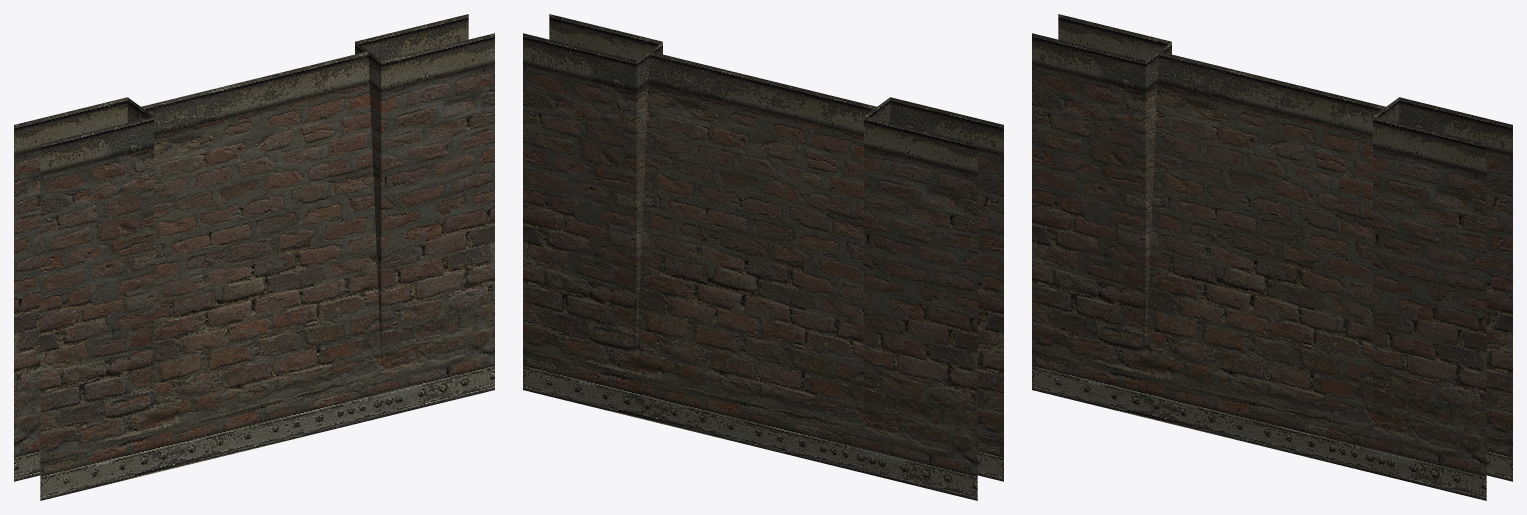
File: wall_hr_1_t_1.glb
3 views of the same model, side by side, from view 1: azimuth 30°, elevation 25°; view 2: azimuth 150°, elevation 25°; view 3: azimuth 330°, elevation 25° (orthographic).
Parts seen in each view (by area): view 1: wall_hr_1_t_1; view 2: wall_hr_1_t_1; view 3: wall_hr_1_t_1.
Part boxes in pixels (bbox=[...]): wall_hr_1_t_1: bbox=[14, 14, 494, 500]; wall_hr_1_t_1: bbox=[523, 14, 1003, 500]; wall_hr_1_t_1: bbox=[1032, 14, 1512, 500].
Size of the model in its own units: 4 by 3 by 0.4.
Materials: 1 (1 with a texture image).
